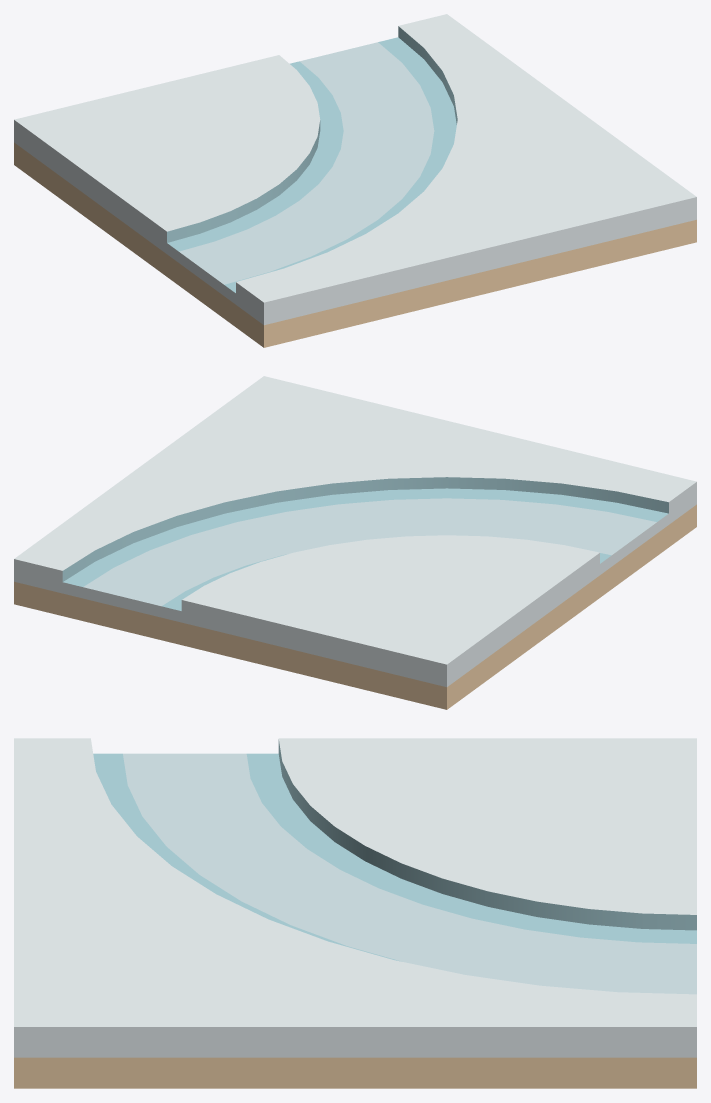
File: snow_tile_cornerLarge.glb
3 views of the same model, one above another, from view 1: azimuth 30°, elevation 25°; view 2: azimuth 150°, elevation 25°; view 3: azimuth 270°, elevation 25° (orthographic). The views are drawn at different scales.
Visible parts, largest first — view 1: snow_tile_cornerLarge; view 2: snow_tile_cornerLarge; view 3: snow_tile_cornerLarge.
Part boxes in pixels (<box>): snow_tile_cornerLarge: <box>14,14,696,347</box>; snow_tile_cornerLarge: <box>14,376,696,709</box>; snow_tile_cornerLarge: <box>14,738,696,1088</box>.
Size of the model in its own units: 2 by 0.2 by 2.
